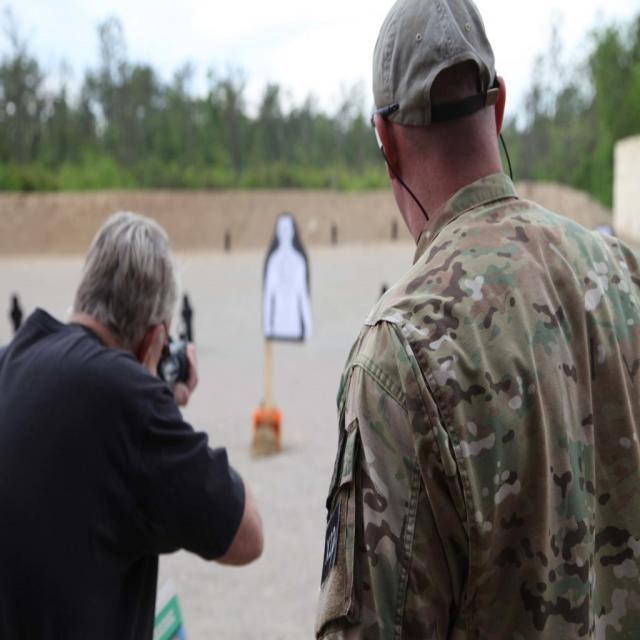weapon: (156, 292, 186, 388)
